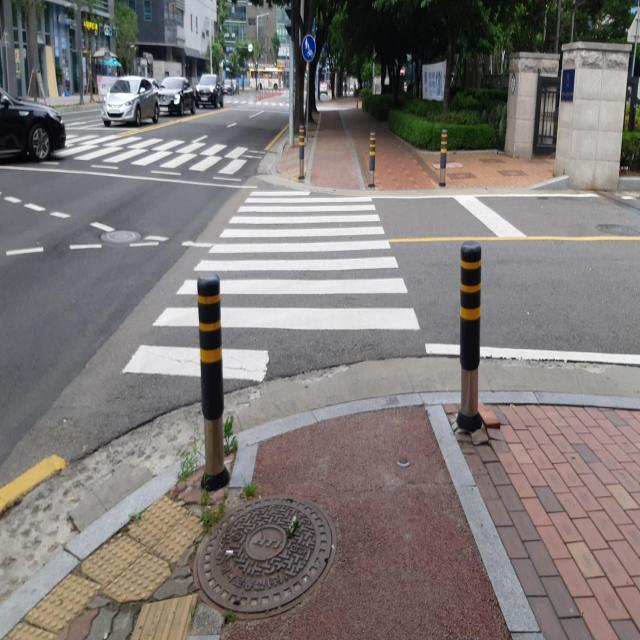횡단보도: (120, 188, 422, 386), (60, 130, 254, 180)
